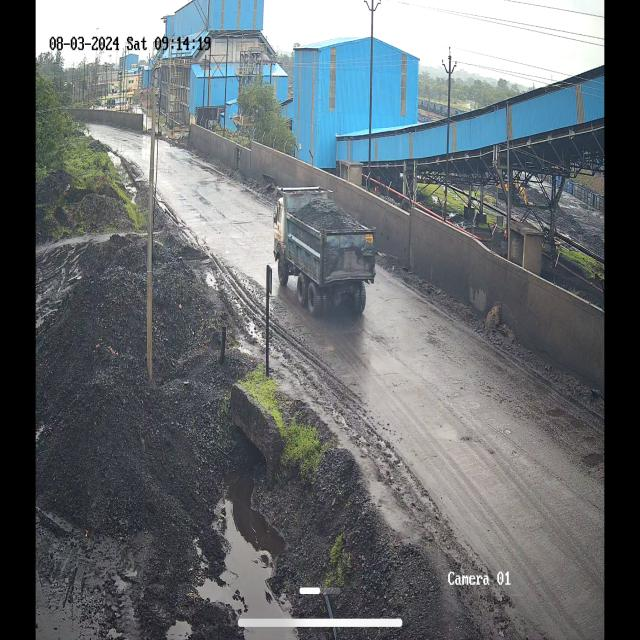dump_truck: (270, 185, 376, 325)
